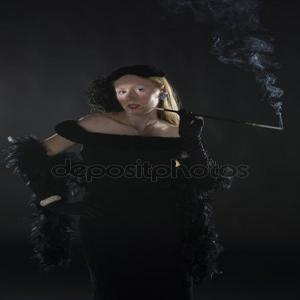cigarette: (246, 119, 286, 130)
